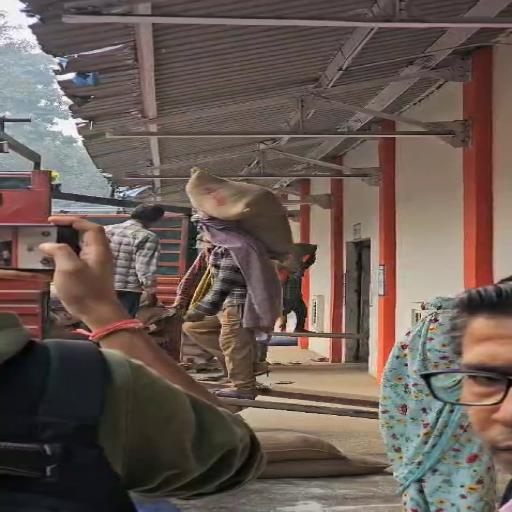bag: (184, 161, 301, 261)
